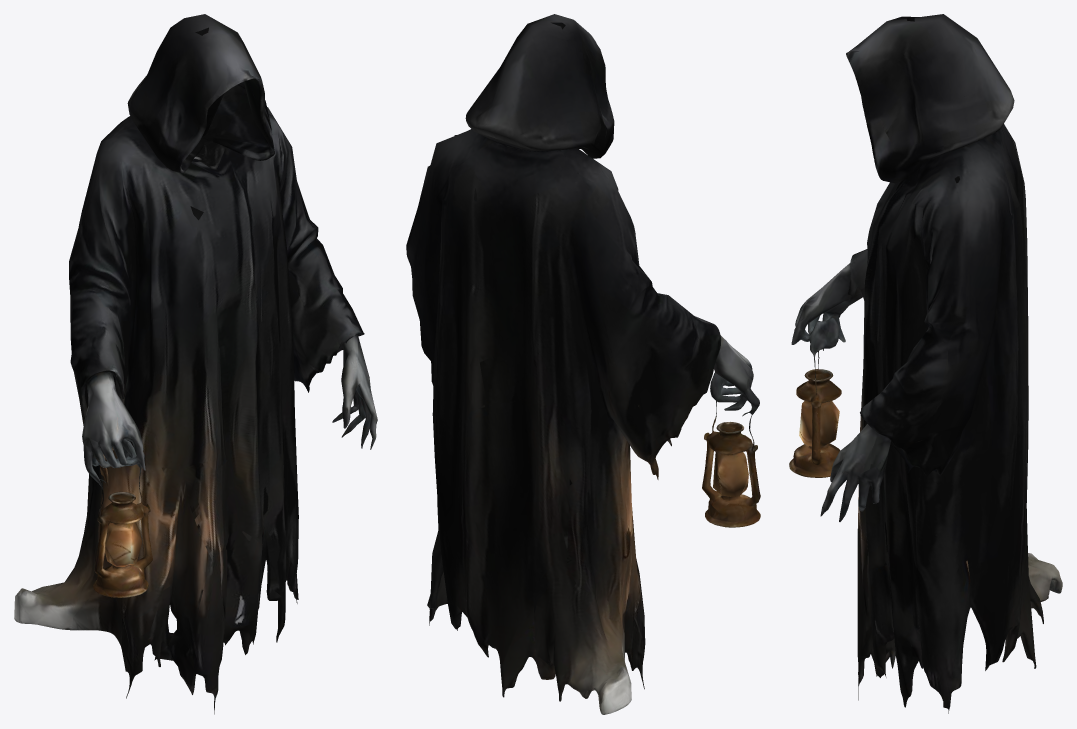
File: shadow.glb
3 views of the same model, side by side, from view 1: azimuth 30°, elevation 25°; view 2: azimuth 150°, elevation 25°; view 3: azimuth 270°, elevation 25° (orthographic). The views are drawn at different scales.
Bounding box in the file's own units: 0.8978 × 1.89 × 0.6748.
1 material, 1 textured.
